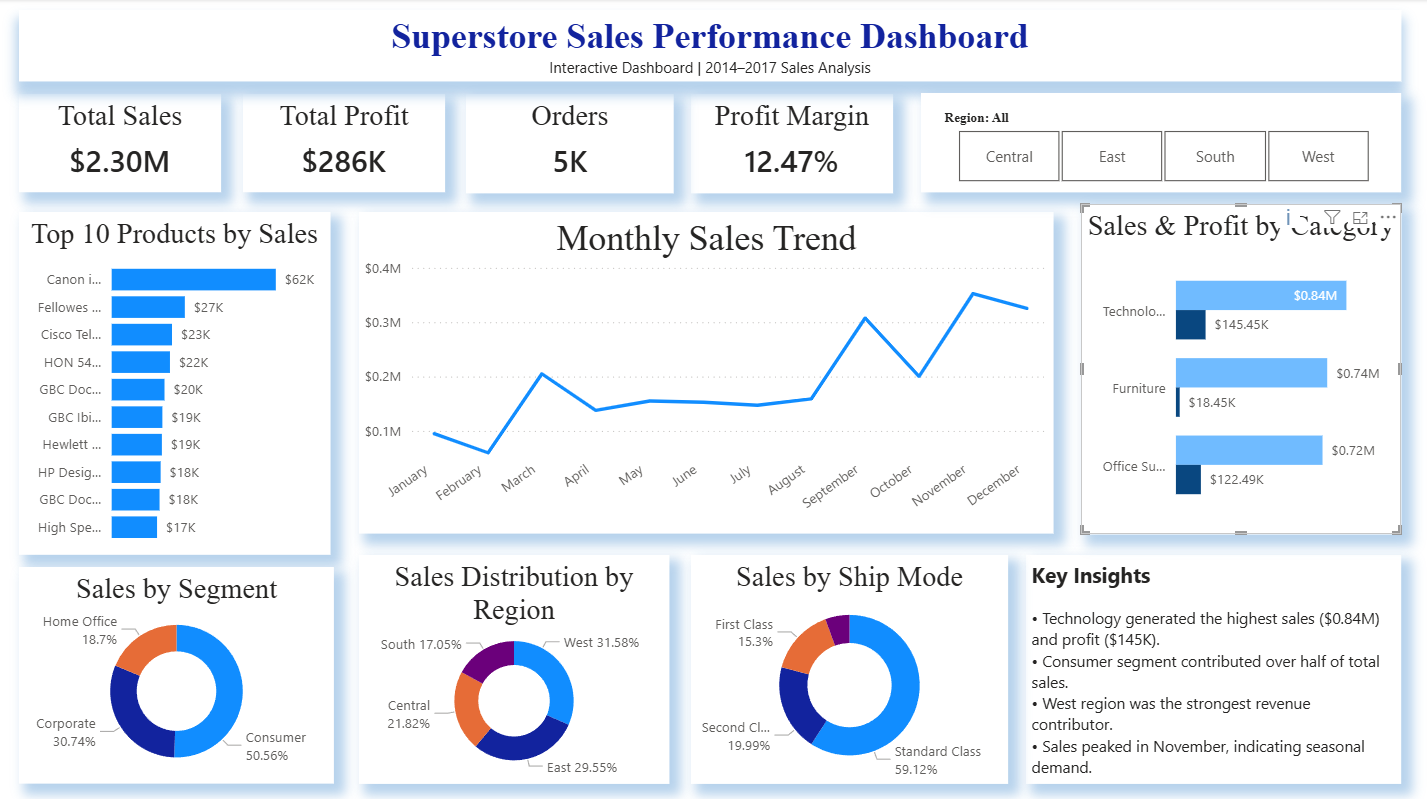

What the dashboard file says about the page in this screenshot:
{"tool":"powerbi","page":{"name":"Page 1","canvas":[1280,720],"ordinal":0},"visuals":[{"type":"cardVisual","title":"Total Sales","fields":{"Data":["Sum(orders.Sales)"]},"box":[17.9,85.1,180.9,87.8],"z":0},{"type":"cardVisual","title":"Profit Margin","fields":{"Data":["orders.Profit Margin %"]},"box":[619.7,85.1,180.9,88.7],"z":1000},{"type":"cardVisual","title":"Total Profit","fields":{"Data":["Sum(orders.Profit)"]},"box":[218.5,85.1,180.9,87.8],"z":2000},{"type":"cardVisual","title":"Orders","fields":{"Data":["orders.Total Orders"]},"box":[418.2,85.1,186.3,88.7],"z":3000},{"type":"lineChart","title":"Monthly Sales Trend","fields":{"Category":["orders.Order Date.Variation.Date Hierarchy.Month"],"Y":["Sum(orders.Sales)"]},"box":[322.4,190.7,622.4,288.4],"z":4000},{"type":"clusteredBarChart","title":"Sales & Profit  by  Category","fields":{"Y":["Sum(orders.Sales)","Sum(orders.Profit)"],"Category":["orders.Category"]},"box":[969,183.6,286.6,295.5],"z":5000},{"type":"textbox","box":[17.9,9.9,1237.6,63.6],"z":6000},{"type":"clusteredBarChart","title":"Top 10 Products by Sales","fields":{"Category":["orders.Product Name"],"Y":["Sum(orders.Sales)"]},"box":[17.9,190.7,278.5,307.2],"z":6001},{"type":"donutChart","title":"Sales by Segment","fields":{"Y":["Sum(orders.Sales)"],"Category":["orders.Segment"]},"box":[17.9,508.7,282.1,194.3],"z":6002},{"type":"donutChart","title":"Sales Distribution by Region","fields":{"Category":["orders.Region"],"Y":["Sum(orders.Sales)"]},"box":[322.4,497.9,277.6,205.1],"z":6003},{"type":"textbox","box":[919.7,497.9,335.8,205.1],"z":6004},{"type":"donutChart","title":"Sales by Ship Mode","fields":{"Y":["Sum(orders.Sales)"],"Category":["orders.Ship Mode"]},"box":[619.7,497.9,283.9,205.1],"z":6005},{"type":"slicer","title":"Region","fields":{"Values":["orders.Region"]},"box":[825.8,84.6,429.9,88.5],"z":6006}]}

Visuals, with their boxes in screenshot pixels (x1, y1, x2, y2), scaled from the page's 1280x720 canvas onto the 1427x799 screenshot:
"Total Sales" cardVisual: {"x1": 20, "y1": 94, "x2": 222, "y2": 192}
"Profit Margin" cardVisual: {"x1": 691, "y1": 94, "x2": 893, "y2": 193}
"Total Profit" cardVisual: {"x1": 244, "y1": 94, "x2": 445, "y2": 192}
"Orders" cardVisual: {"x1": 466, "y1": 94, "x2": 674, "y2": 193}
"Monthly Sales Trend" lineChart: {"x1": 359, "y1": 212, "x2": 1053, "y2": 532}
"Sales & Profit  by  Category" clusteredBarChart: {"x1": 1080, "y1": 204, "x2": 1400, "y2": 532}
textbox: {"x1": 20, "y1": 11, "x2": 1400, "y2": 82}
"Top 10 Products by Sales" clusteredBarChart: {"x1": 20, "y1": 212, "x2": 330, "y2": 553}
"Sales by Segment" donutChart: {"x1": 20, "y1": 565, "x2": 334, "y2": 780}
"Sales Distribution by Region" donutChart: {"x1": 359, "y1": 553, "x2": 669, "y2": 780}
textbox: {"x1": 1025, "y1": 553, "x2": 1400, "y2": 780}
"Sales by Ship Mode" donutChart: {"x1": 691, "y1": 553, "x2": 1007, "y2": 780}
"Region" slicer: {"x1": 921, "y1": 94, "x2": 1400, "y2": 192}
